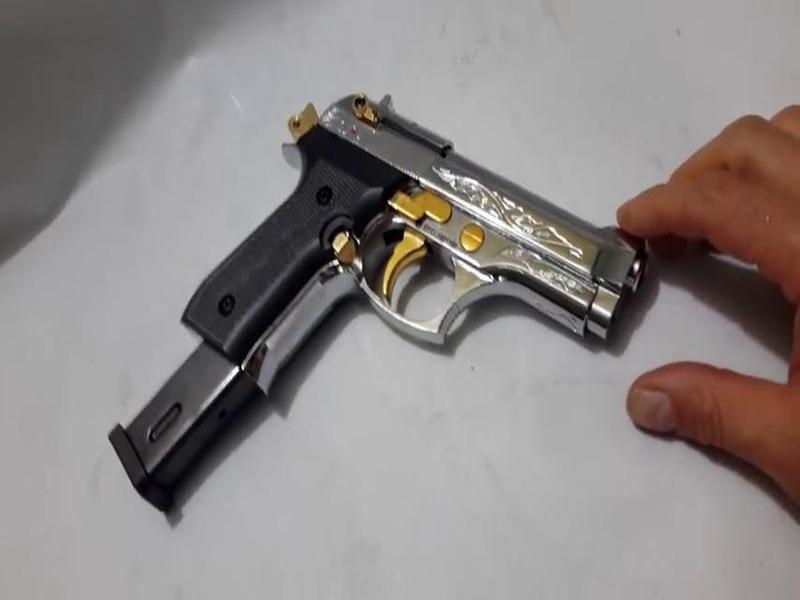Pistola: (175, 71, 649, 385)
